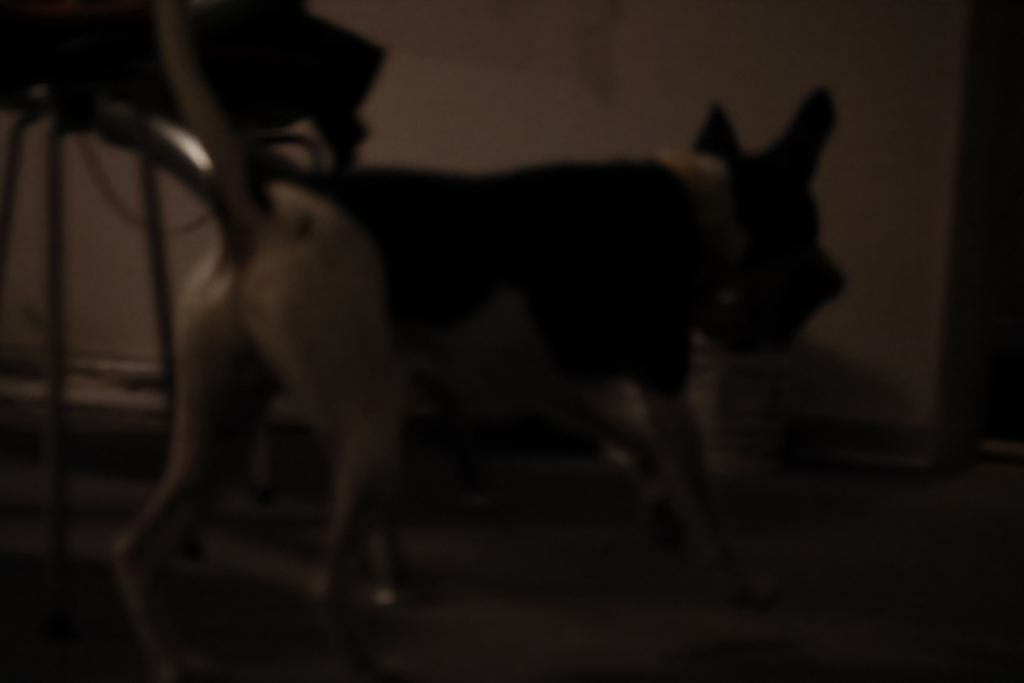Dog: (101, 0, 864, 683)
